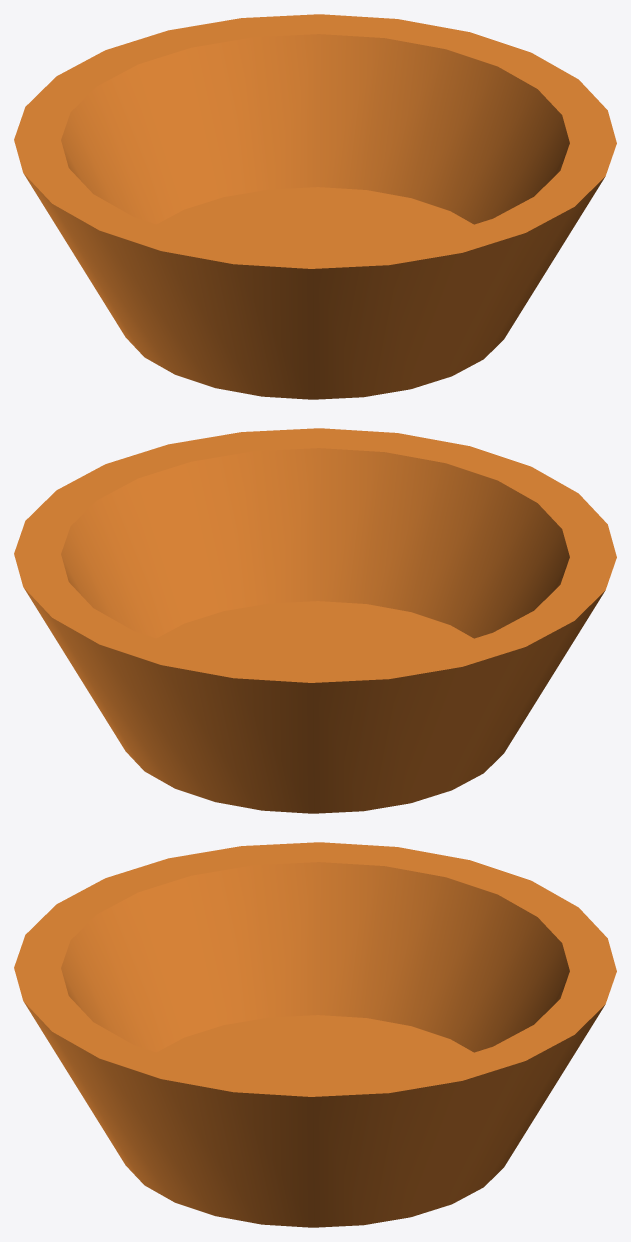
Rendered from 4 bowl.fbx.
3 renders of one model, top to bottom at view 1: azimuth 30°, elevation 25°; view 2: azimuth 150°, elevation 25°; view 3: azimuth 270°, elevation 25°, orthographic.
Parts seen in each view (by area): view 1: 4 bowl; view 2: 4 bowl; view 3: 4 bowl.
Part boxes in pixels (<box>): 4 bowl: <box>14,14,616,399</box>; 4 bowl: <box>14,428,616,813</box>; 4 bowl: <box>14,842,616,1227</box>.
Size of the model in its own units: 13.23 by 4.25 by 13.23.
